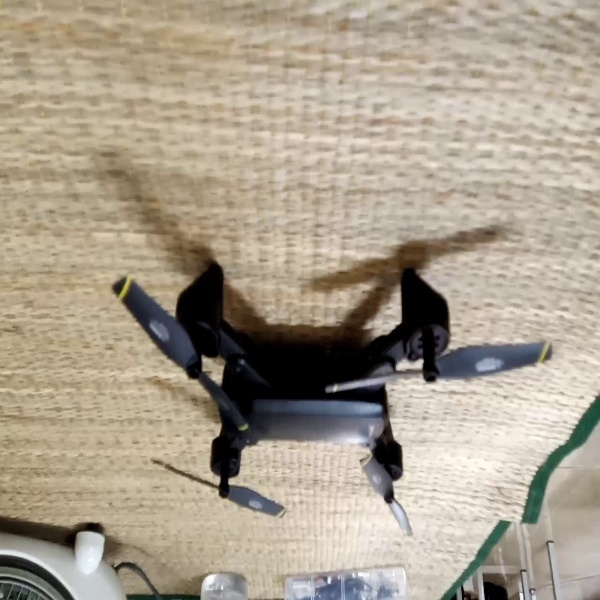drone: (108, 259, 556, 536)
